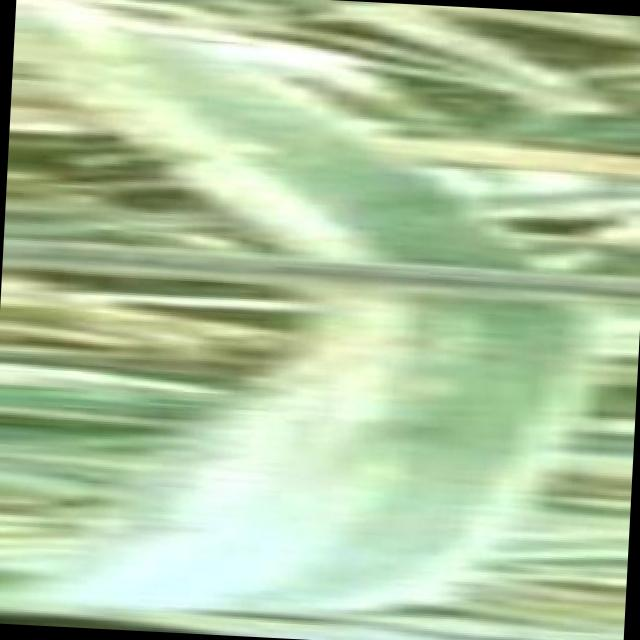Rice_Bacterial_Blight: (176, 66, 588, 638)
